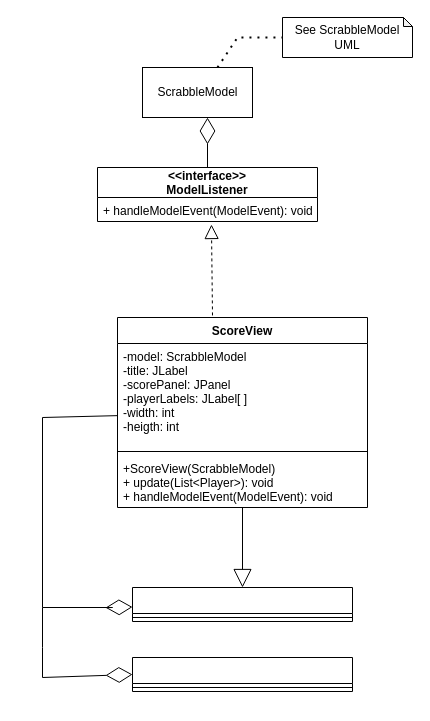
This 430x721 diagram has some shape labels left out. Here are the shapes that lost their labels. From the top down, the box of each, then its label:
(132, 586, 352, 622): JPanel
(132, 656, 352, 692): JLabel
